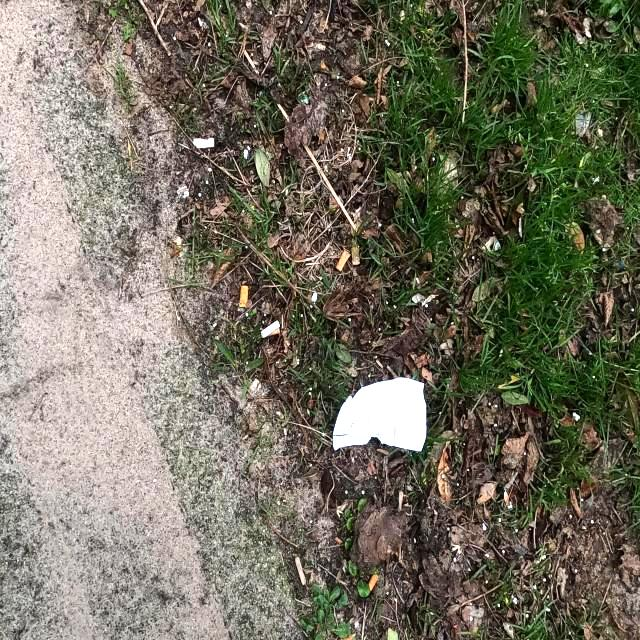Paper: (332, 375, 428, 453)
